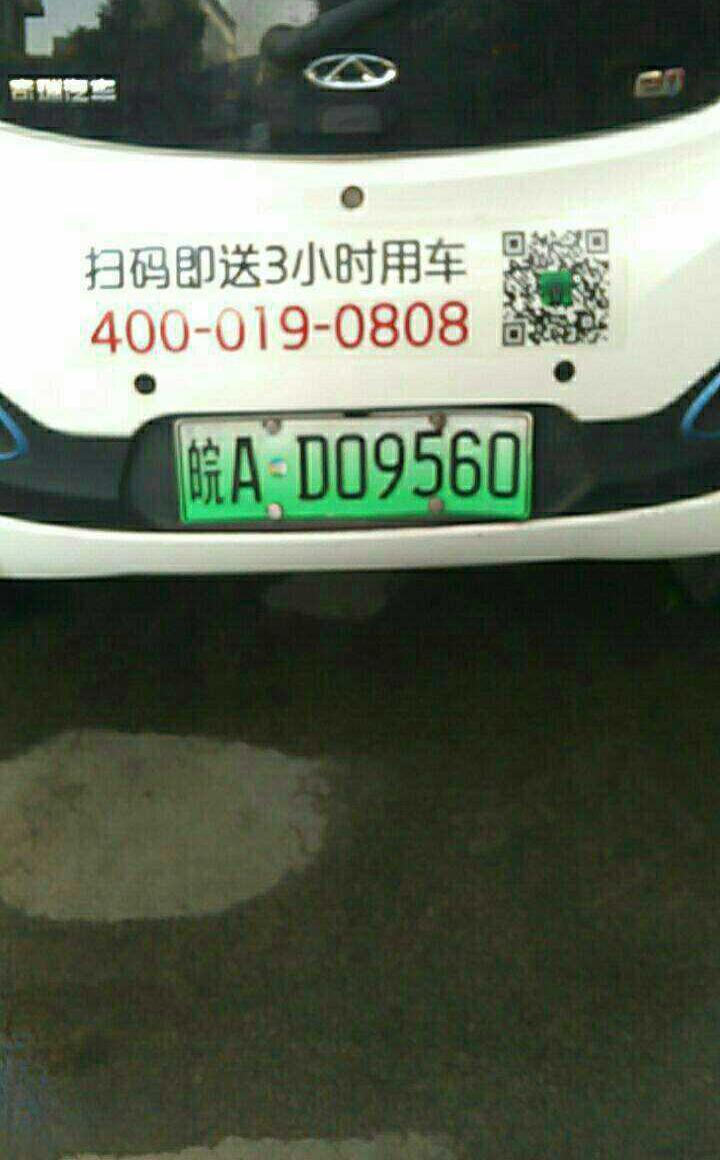car_id: (176, 414, 527, 522)
